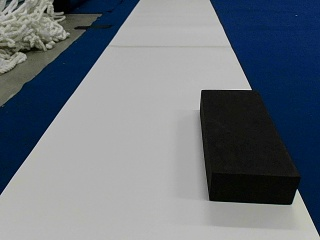block: (200, 90, 298, 205)
